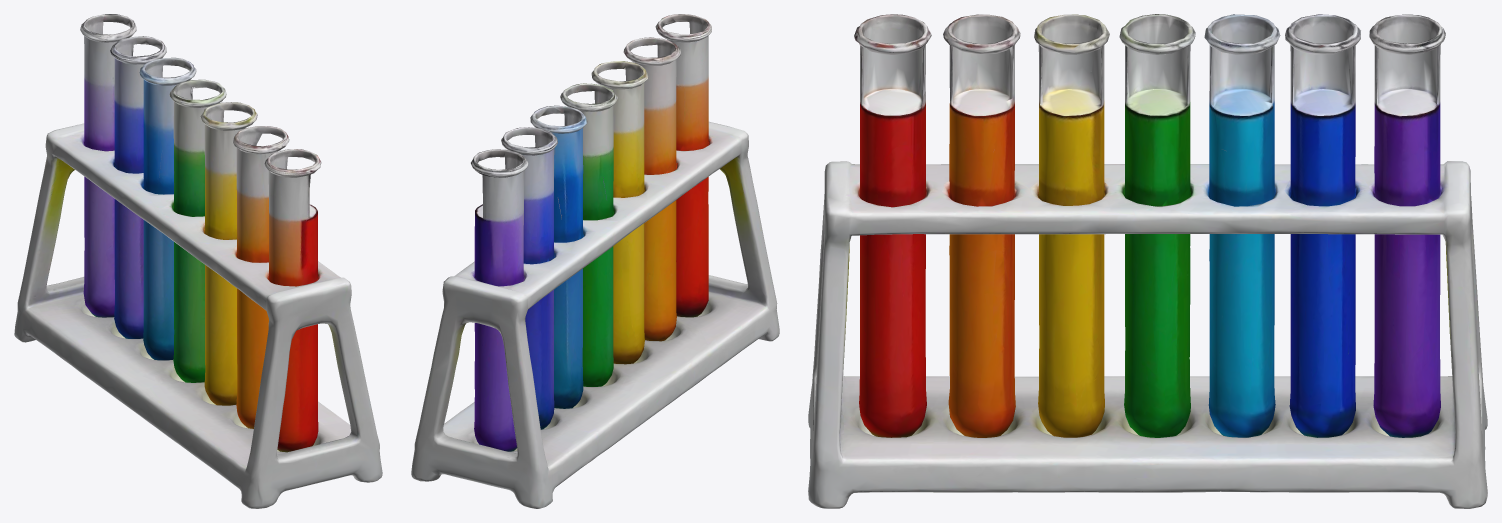
Rendered from indicator-color-tubes.glb.
The picture shows the model from 3 angles, left to right: view 1: azimuth 30°, elevation 25°; view 2: azimuth 150°, elevation 25°; view 3: azimuth 270°, elevation 25°; orthographic projection. The views are drawn at different scales.
Visible parts, largest first — view 1: indicator-color-tubes; view 2: indicator-color-tubes; view 3: indicator-color-tubes.
Boxes of the visible parts, bbox=[...] form: indicator-color-tubes: bbox=[14, 14, 382, 508]; indicator-color-tubes: bbox=[411, 14, 779, 508]; indicator-color-tubes: bbox=[808, 14, 1487, 508].
Size of the model in its own units: 0.0801 by 0.1778 by 0.25.
1 material, 1 textured.
